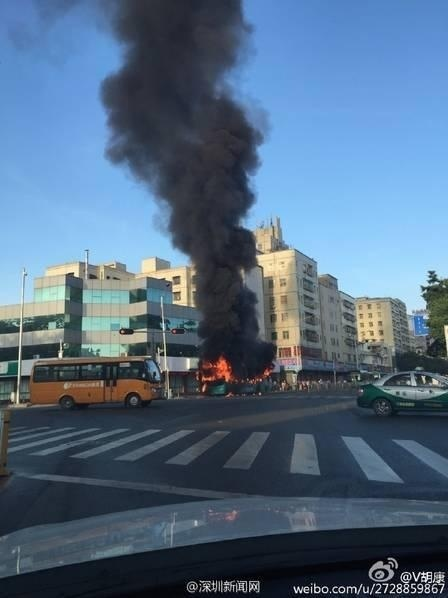fire: (197, 351, 275, 387)
